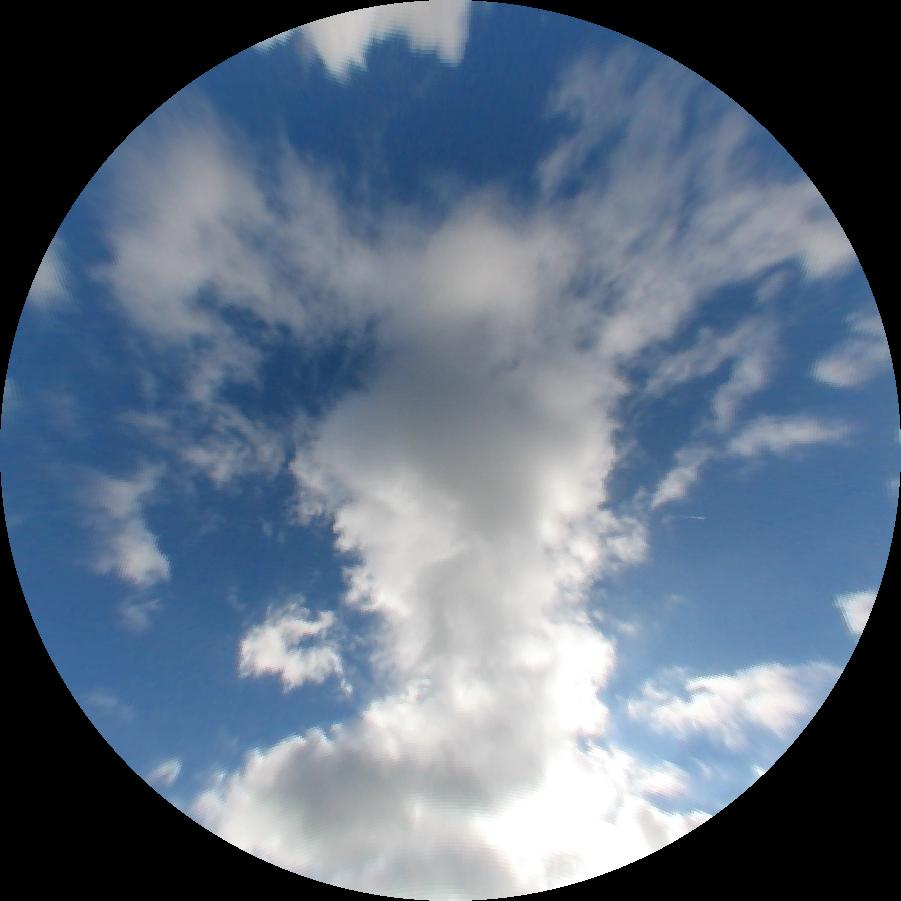contrail young: (671, 515, 705, 520)
sun: (491, 784, 602, 854)
